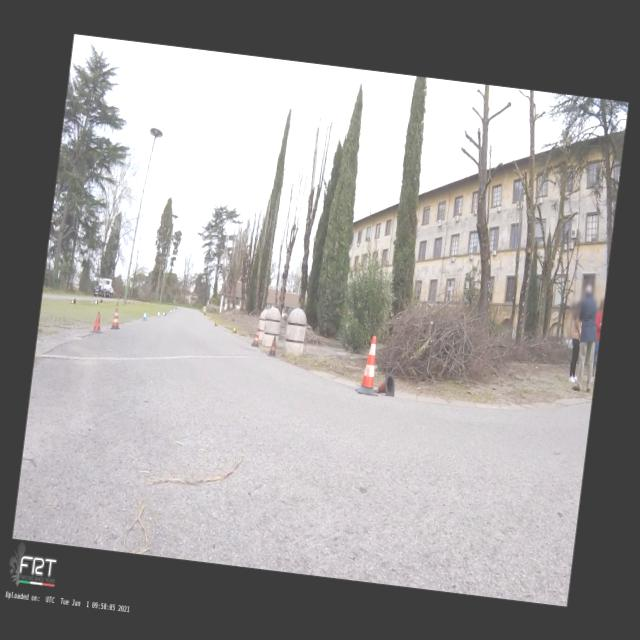blue_cone: (142, 309, 148, 321), (161, 310, 166, 316), (156, 310, 160, 316)
large_orange_cone: (354, 334, 385, 396), (266, 334, 280, 358), (110, 308, 122, 330), (250, 327, 260, 347)
orange_cone: (70, 298, 76, 304), (94, 298, 98, 304)
unknown_cone: (374, 372, 396, 396), (90, 310, 104, 333), (98, 298, 102, 302), (116, 300, 118, 306)
yellow_cone: (232, 326, 238, 333), (214, 322, 218, 326), (214, 318, 217, 323)
